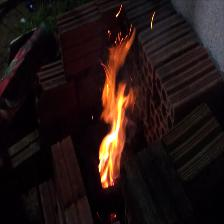fire: (81, 5, 150, 212)
